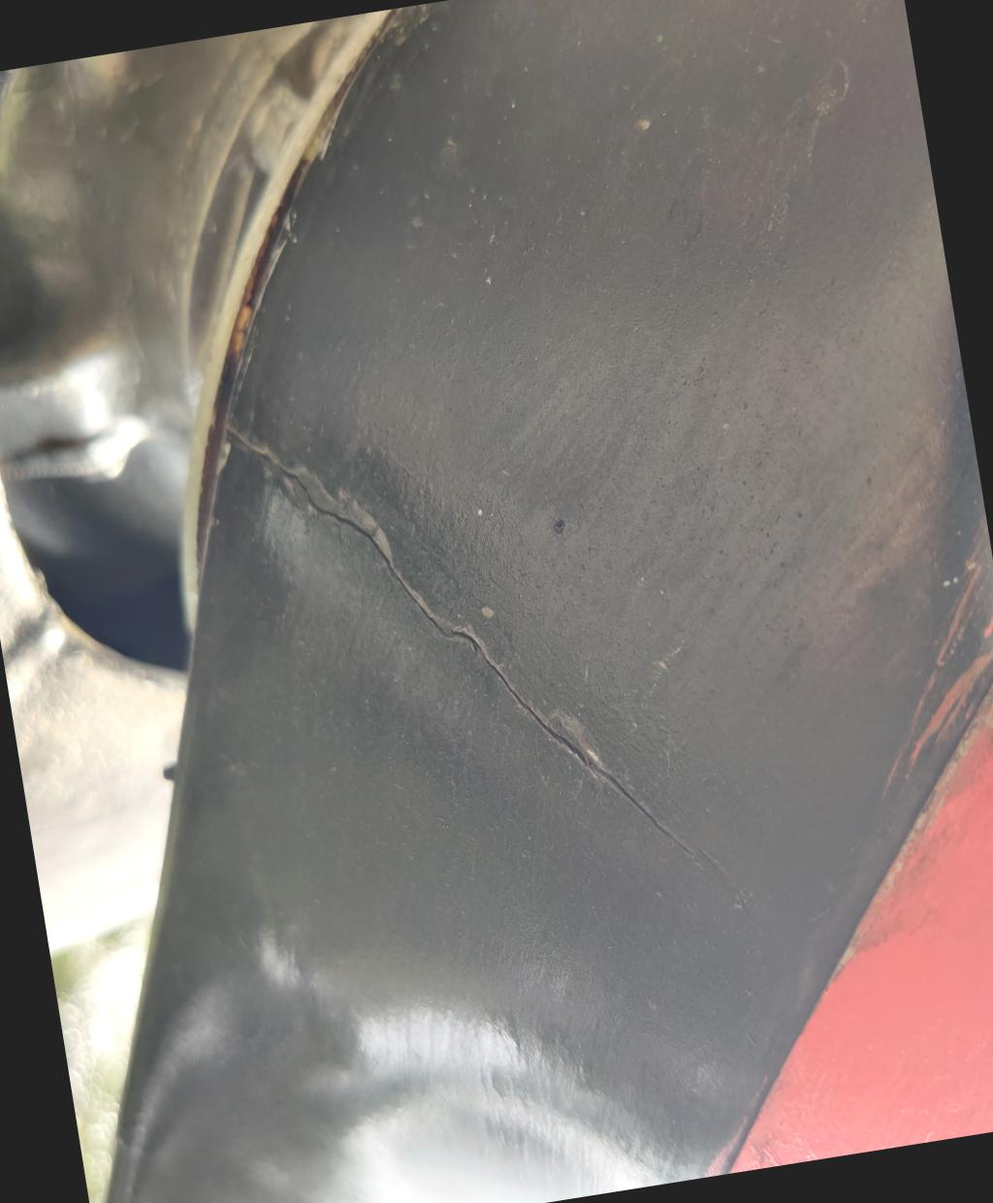crack: (209, 334, 759, 953)
